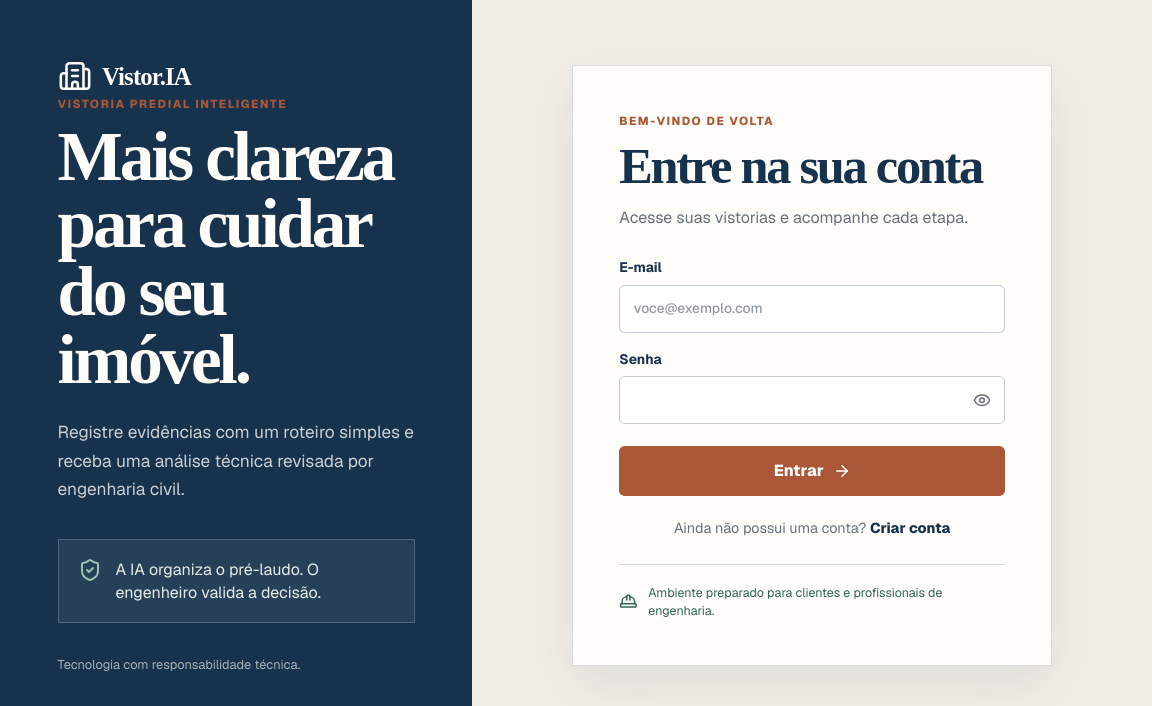
Test case: AuthForm › preserva campos não sensíveis após erro 409
In the field labelled "E-mail": (812, 309) [619,285,1005,333], type "pessoa@exemplo.com"
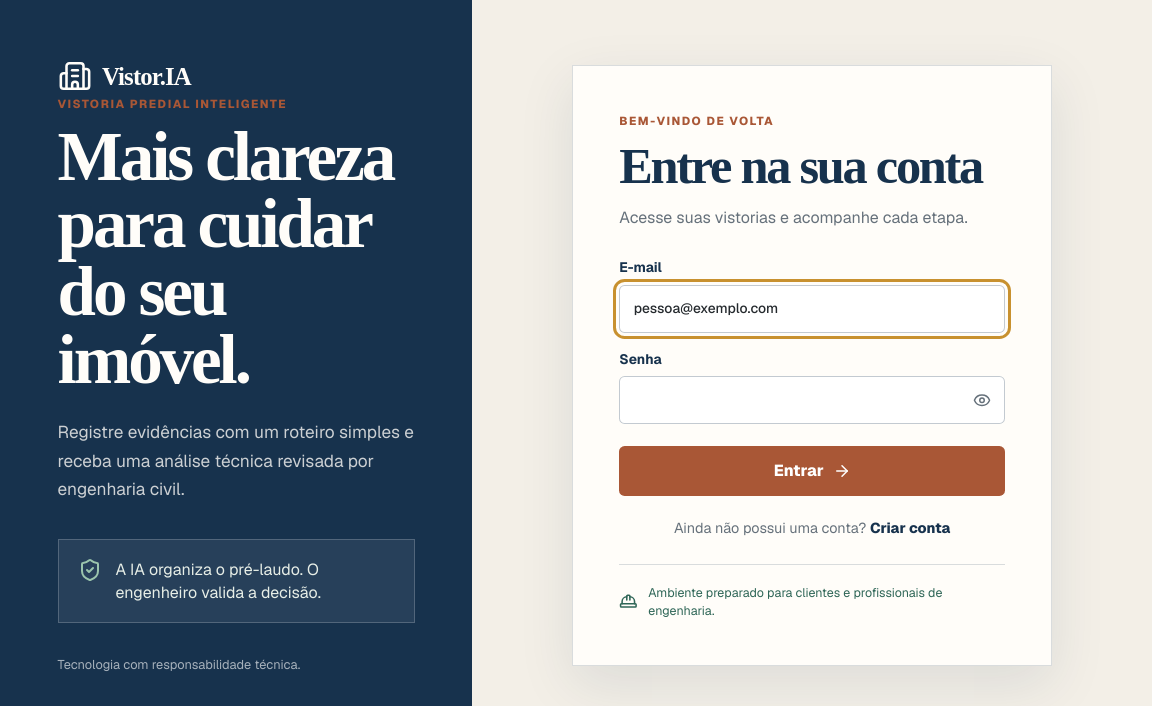
In the password field labelled "Senha": (812, 400) [619,376,1005,424], type "segredo123"
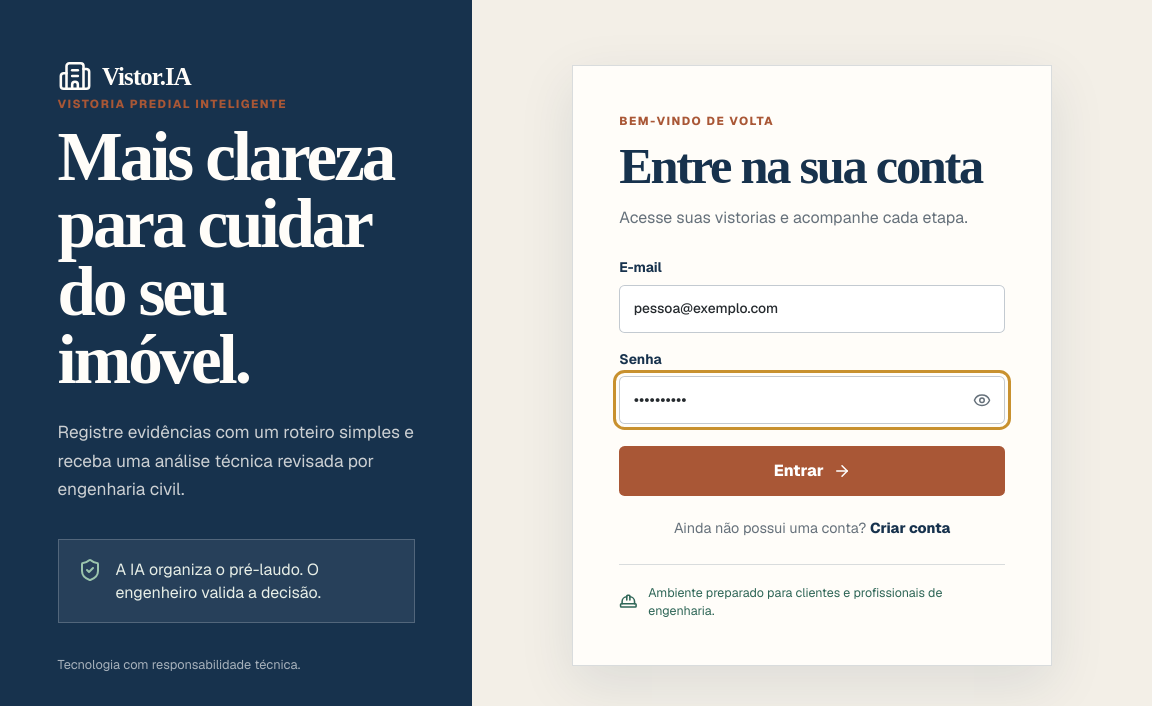
Click the button "Entrar": (812, 471) [619,446,1005,496]
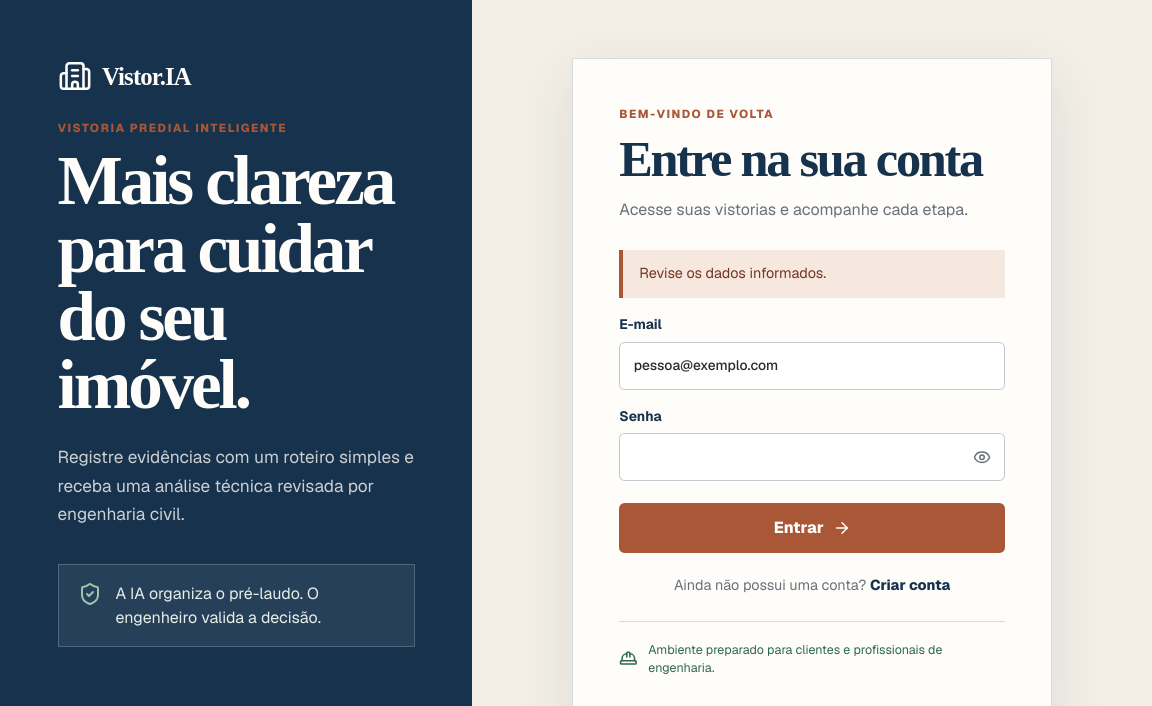
Check: the message reads "Revise os dados informados.", box [639,264,826,282]
